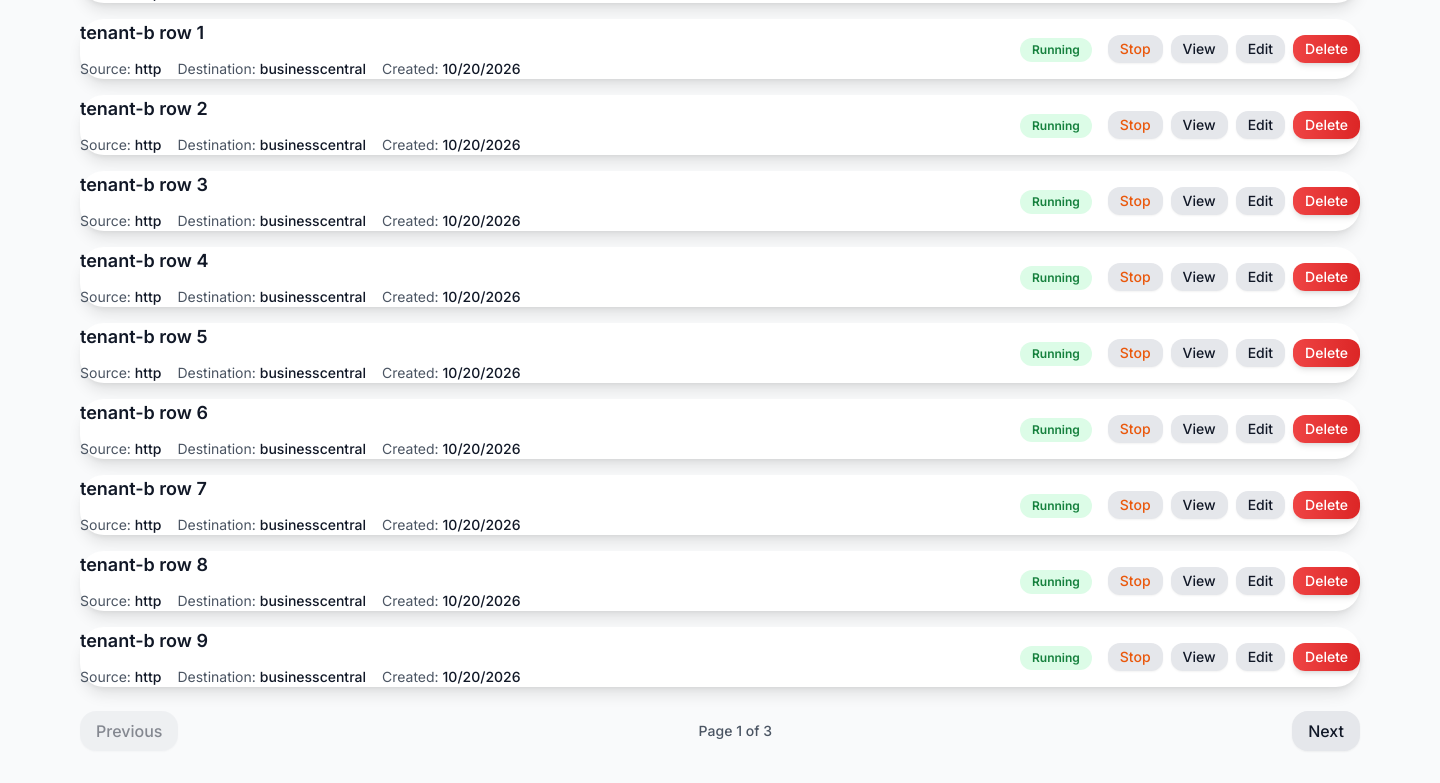
Test: ConnectionsList: a late delete and a failed load (#515) › delete answering with no reload in between › also works for a delete made after a workspace switch and a page change
(page scrolled)
Expected: the text "Page 1 of 3" is shown, [699,721,772,741]
Click the button "Next".
click(1326, 731)  # box [1292,711,1360,751]
(page scrolled)
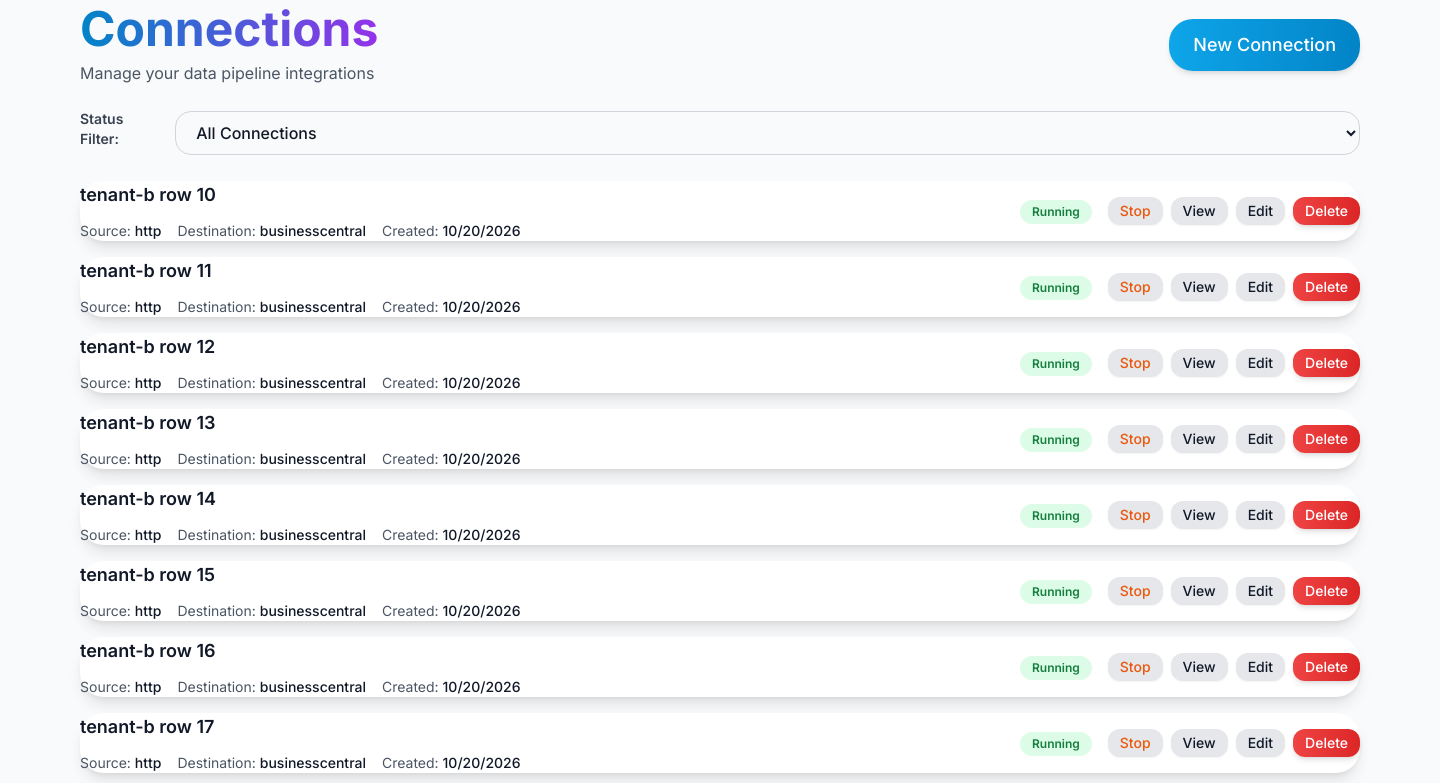
Click the button "Delete" in the row of "tenant-b row 15".
click(1327, 591)  # box [1293,577,1360,605]
(page scrolled)
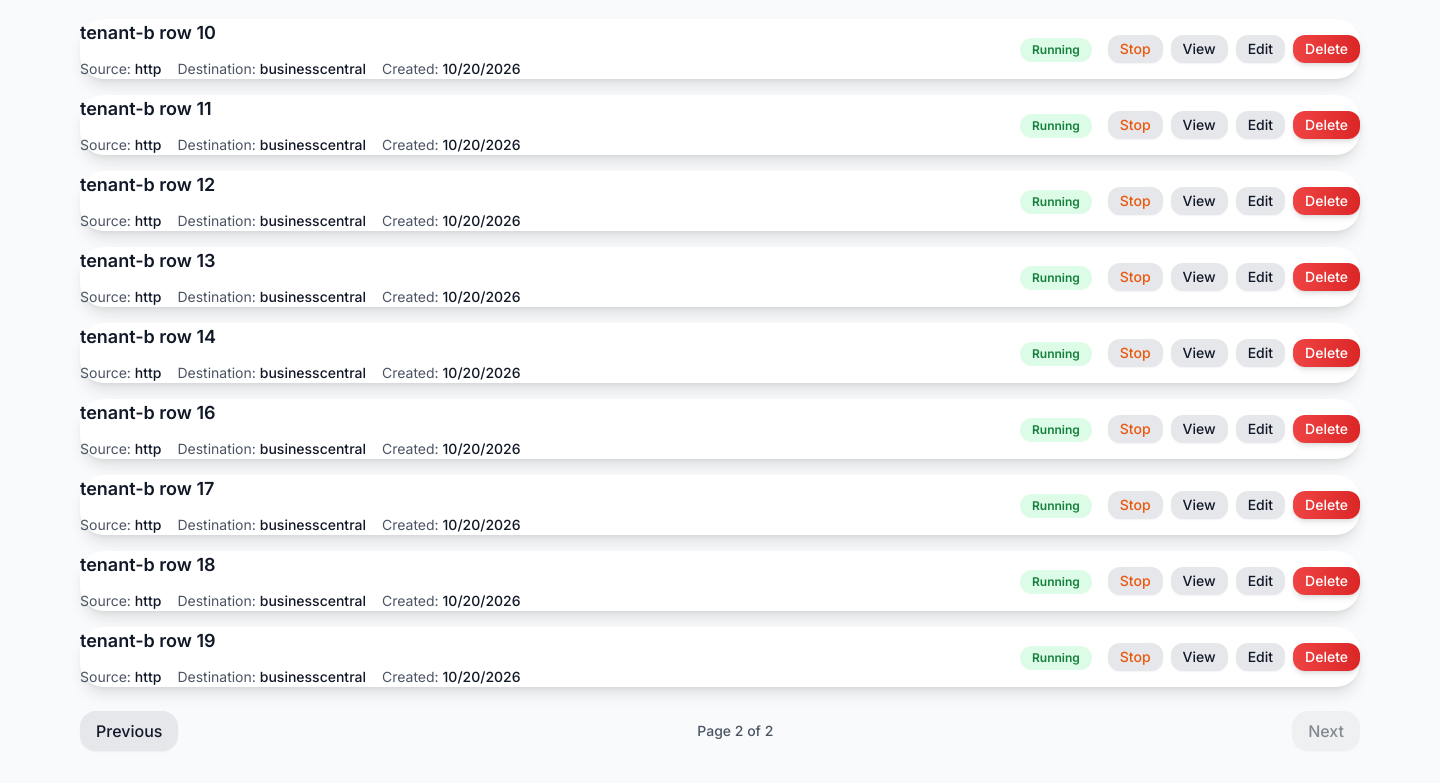
Expected: the text "Page 2 of 2" is shown, [697,721,773,741]
